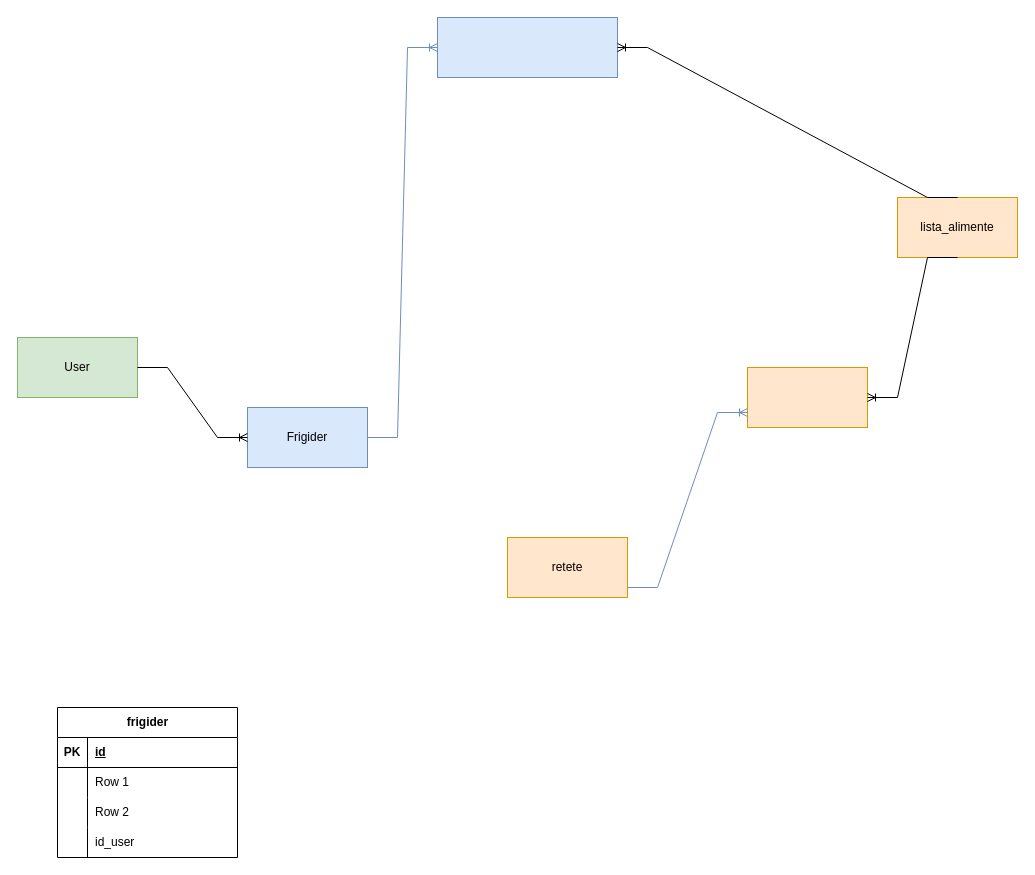
The diagram is 1035 pixels wide and 875 high, and some of its shapes have lost their labels. The box of each missing label's shape, as (x1, y1, x2, y2) in pixels:
aliment_reteta: (746, 366, 868, 428)
alimente_disponibile_in frigider: (436, 16, 618, 78)
